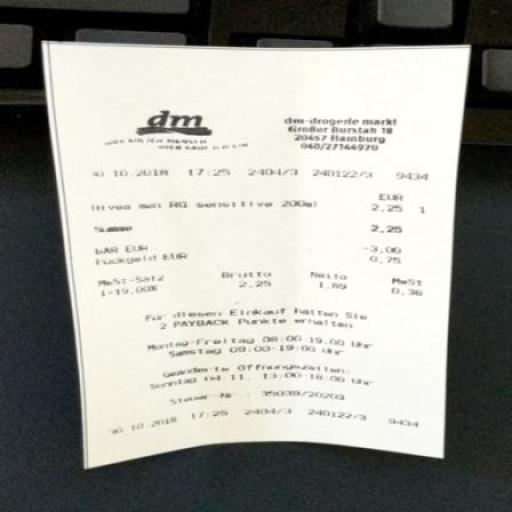paper: (15, 17, 512, 510)
